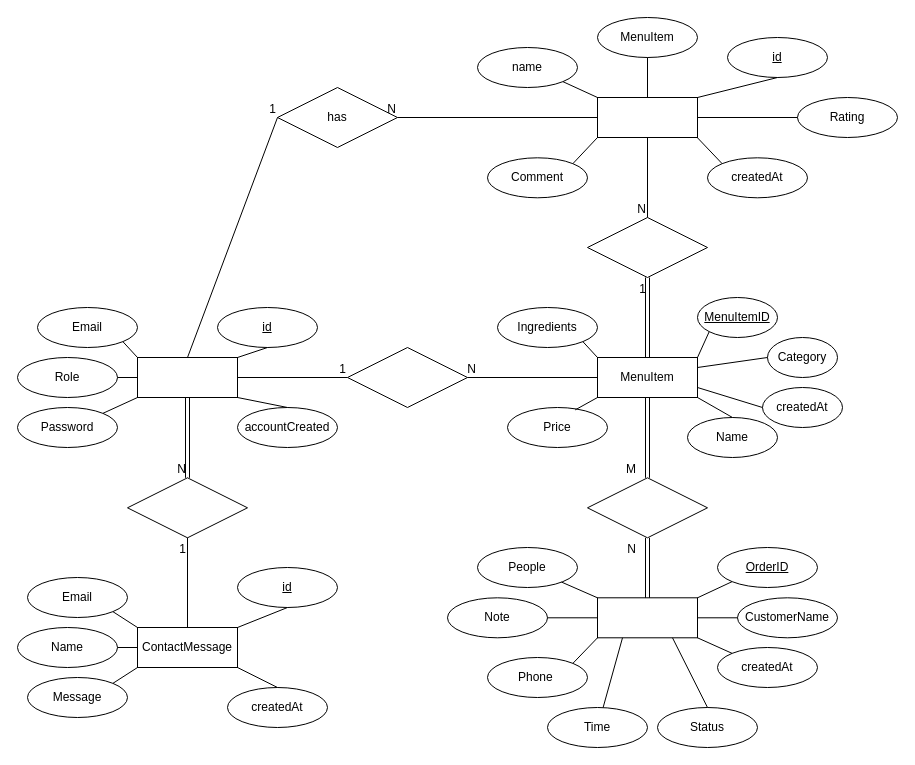
The diagram is 915 pixels wide and 765 high, and some of its shapes have lost their labels. The shapes that lost their labels are listed below. From the top down, each one's box as (x1, y1, x2, y2) in pixels, then its label:
(596, 96, 698, 138): Review
(586, 216, 708, 278): recieves
(136, 356, 238, 398): Users
(346, 346, 468, 408): creates
(126, 477, 248, 538): writes
(586, 477, 708, 538): included_in
(596, 597, 698, 638): Order
